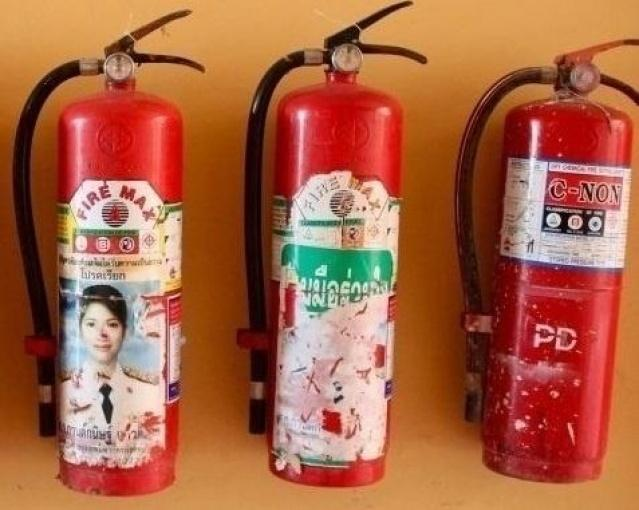APAR: (477, 34, 638, 486), (265, 0, 405, 488), (57, 6, 195, 495)
